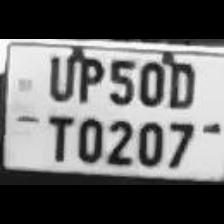0: (132, 55, 164, 106), (72, 112, 104, 162), (132, 116, 164, 166)
2: (102, 114, 132, 166)
5: (102, 53, 134, 106)
7: (162, 116, 196, 168)
D: (164, 57, 196, 110)
P: (72, 50, 104, 104)
T: (40, 107, 74, 162)
U: (42, 50, 74, 102)
